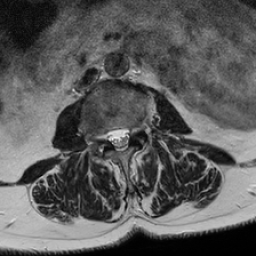CCS_normal: (115, 117, 122, 160)
LFS_normal: (130, 116, 139, 141)
LLS_normal: (122, 120, 130, 154)
RFS_normal: (99, 122, 107, 150)
RLS_normal: (107, 120, 115, 153)
